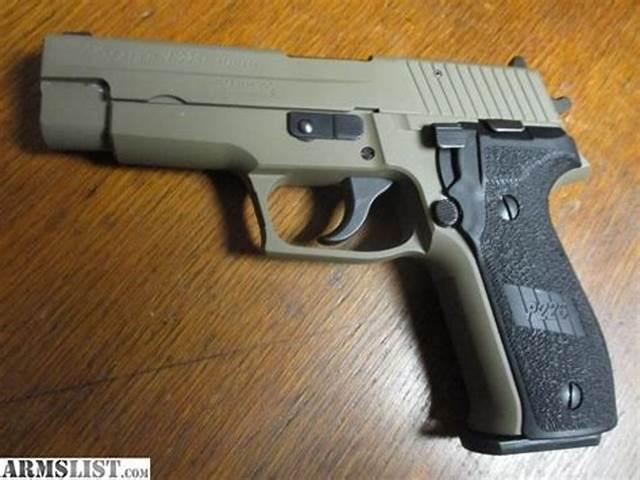handgun: (30, 27, 622, 459)
